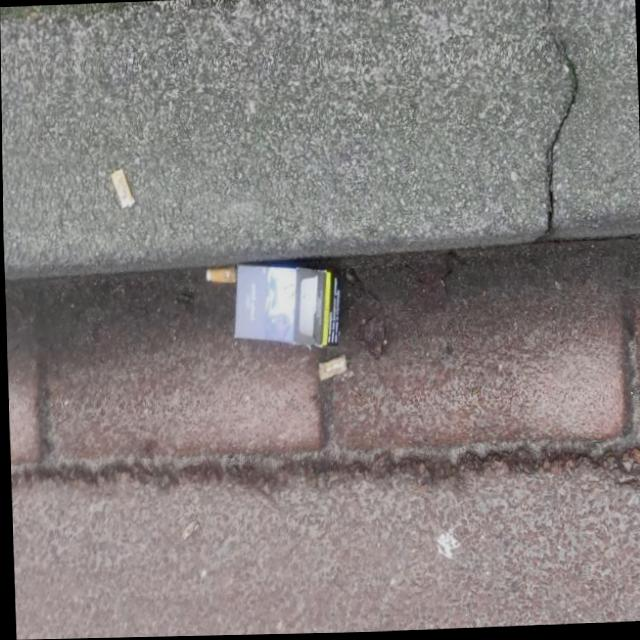Paper: (228, 259, 343, 352)
